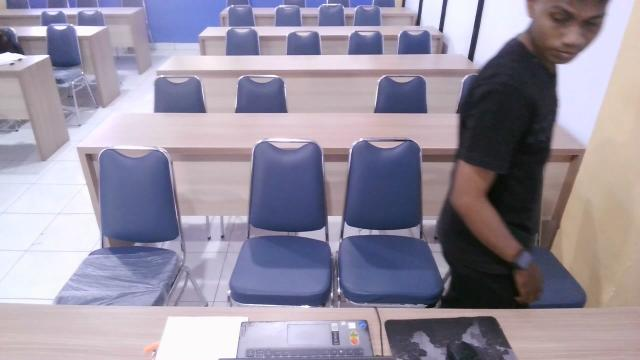Empty_Desk: (220, 129, 391, 360)
